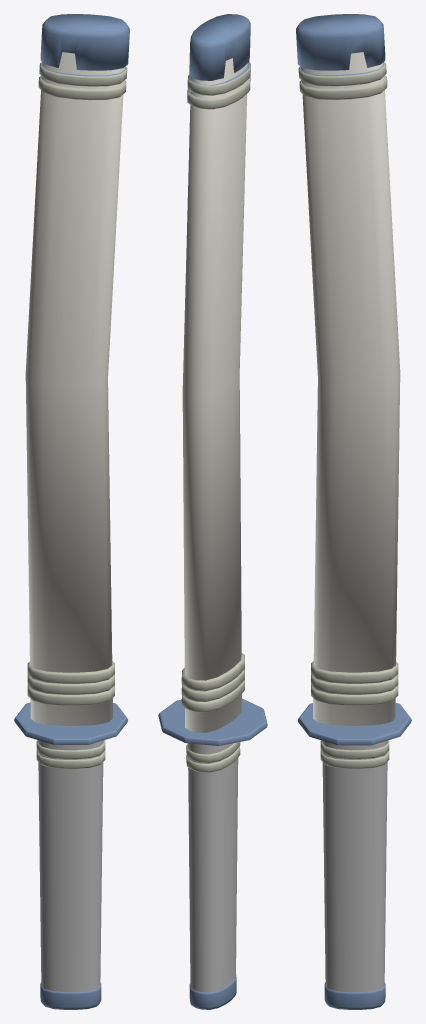
3 views of the same model, side by side, from view 1: azimuth 90°, elevation 25°; view 2: azimuth 150°, elevation 25°; view 3: azimuth 270°, elevation 25° (orthographic).
Parts seen in each view (by area): view 1: Cube.239; view 2: Cube.239; view 3: Cube.239.
Boxes of the visible parts, left/top/right/bottom form: Cube.239: left=14, top=14, right=129, bottom=1009; Cube.239: left=158, top=14, right=267, bottom=1009; Cube.239: left=296, top=14, right=411, bottom=1009.
Size of the model in its own units: 20.5 by 206 by 22.01.
